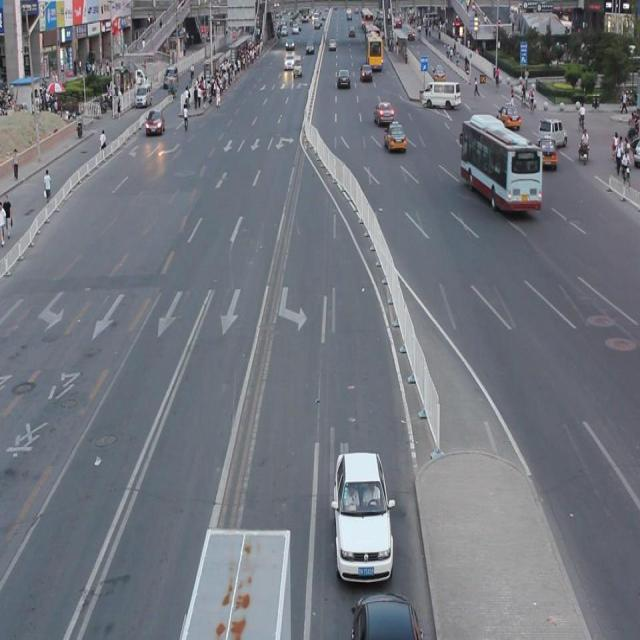bus: (180, 524, 291, 640)
car: (333, 448, 393, 582), (351, 589, 422, 640)
van: (459, 120, 540, 213)
